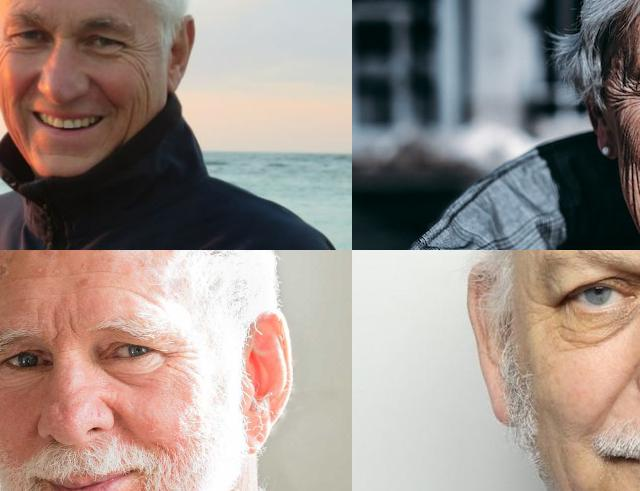crows_feet: (524, 288, 556, 324), (163, 345, 193, 372), (616, 77, 640, 106), (122, 40, 144, 66)
forehead: (104, 279, 148, 302), (14, 269, 84, 283), (6, 294, 42, 308)
frown_line: (48, 312, 68, 348), (61, 311, 79, 337)
gummy_smile: (597, 366, 635, 422), (87, 72, 111, 104), (16, 72, 38, 100)
masseter: (555, 449, 594, 491), (621, 161, 640, 227), (120, 104, 136, 142), (136, 71, 154, 103)
